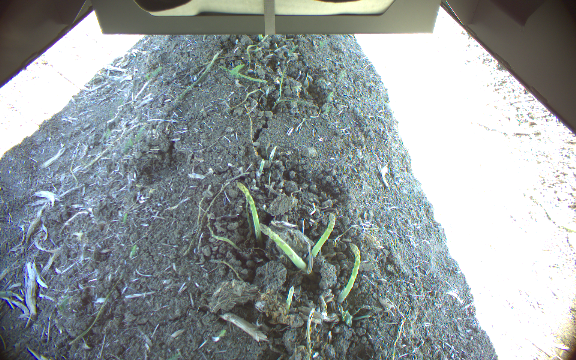aspa: (256, 222, 307, 272), (234, 181, 262, 243), (336, 242, 361, 304), (311, 213, 336, 258)
